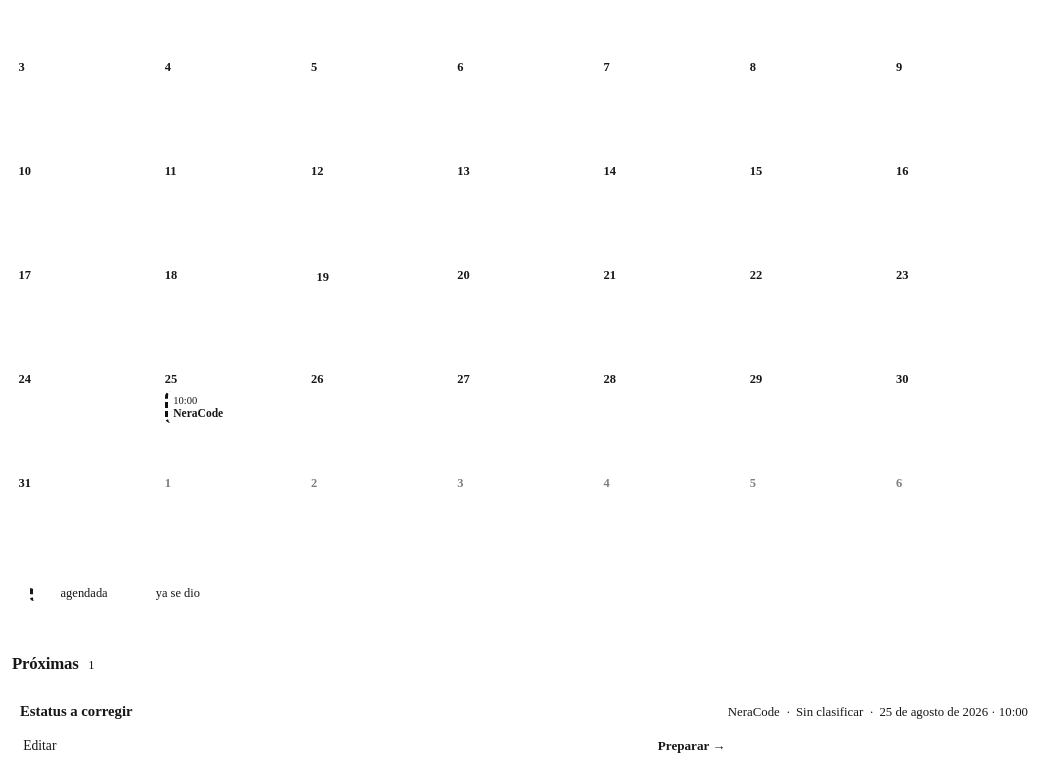
Scenario: PanelAgenda — "Editar" sigue funcionando desde "Próximas" tras la mudanza › clic en "Editar" abre el formulario de corrección, prellenado con los datos de ESA fila
(page scrolled)
Click the button "Editar".
click(40, 746)  # box [20,734,60,757]
(page scrolled)
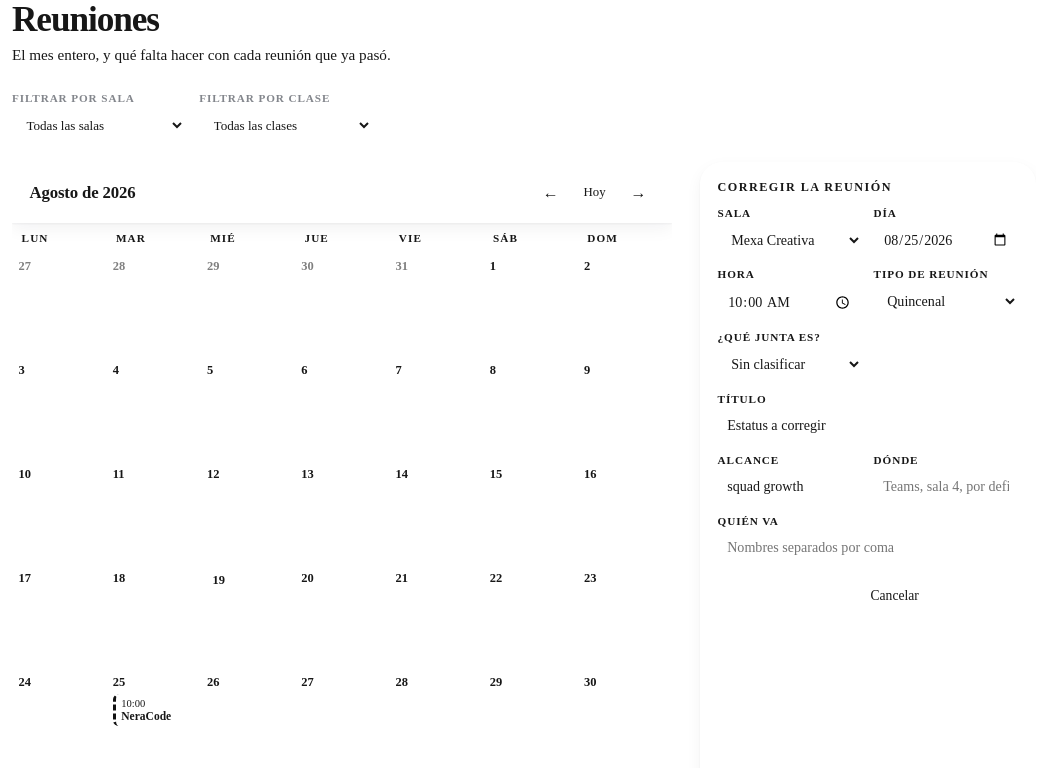
Now the heading "Corregir la reunión" is shown, box [718,180,892,194]
Now the field labelled "Título" holds "Estatus a corregir", box [718,410,1018,441]
Now the dropdown labelled "Sala" shows "Mexa Creativa", box [718,224,862,256]
